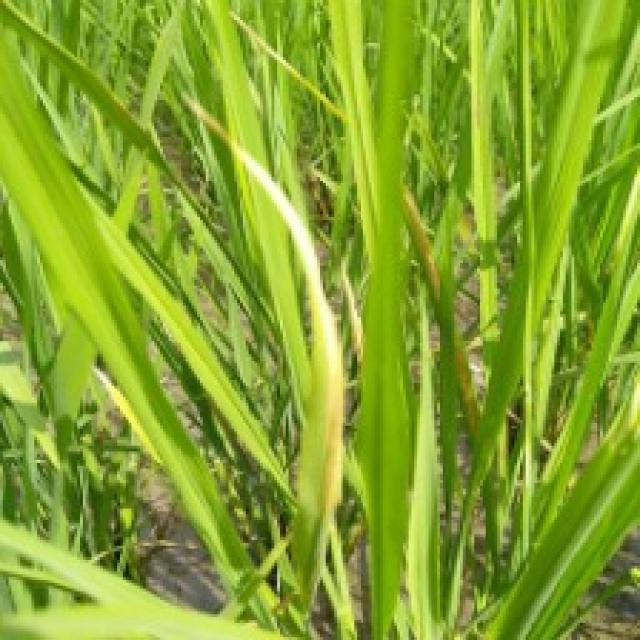Rice___Bacterial_Leaf_Blight: (179, 89, 349, 637)
